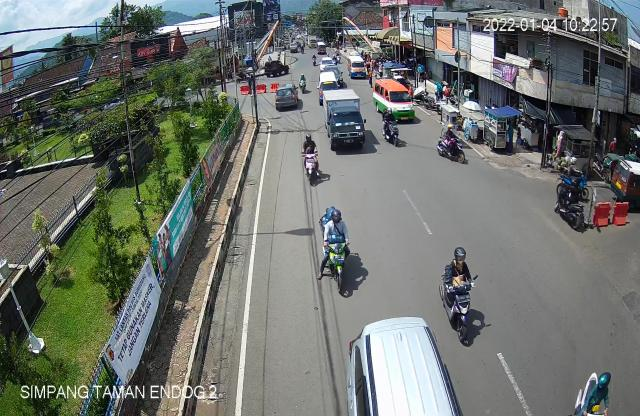Mobil: (340, 309, 462, 416), (370, 77, 420, 122)
Motor: (430, 240, 482, 346), (316, 200, 362, 294), (548, 155, 590, 243), (429, 116, 472, 182), (570, 361, 619, 416), (299, 129, 325, 188), (379, 104, 407, 149)
Truk: (320, 89, 370, 158)
